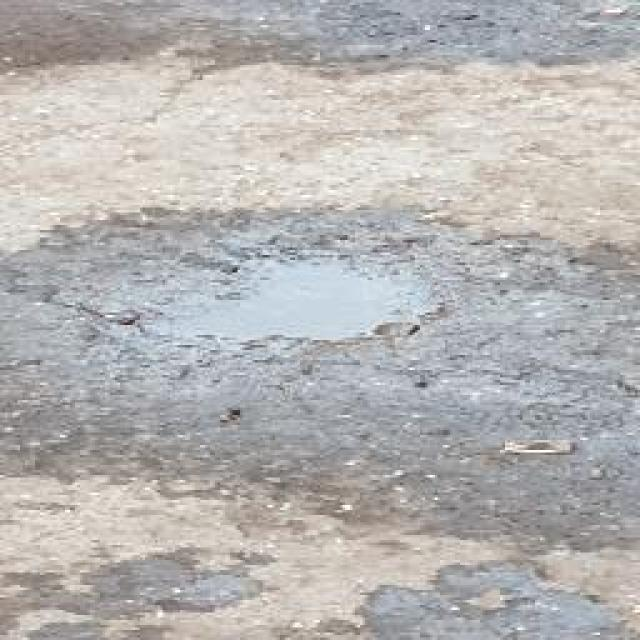waterlogging: (129, 243, 451, 355)
